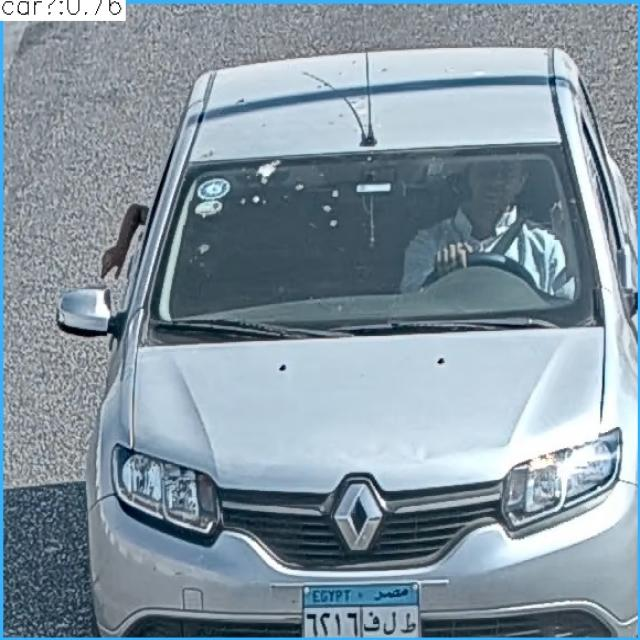windshield: (142, 155, 608, 330)
